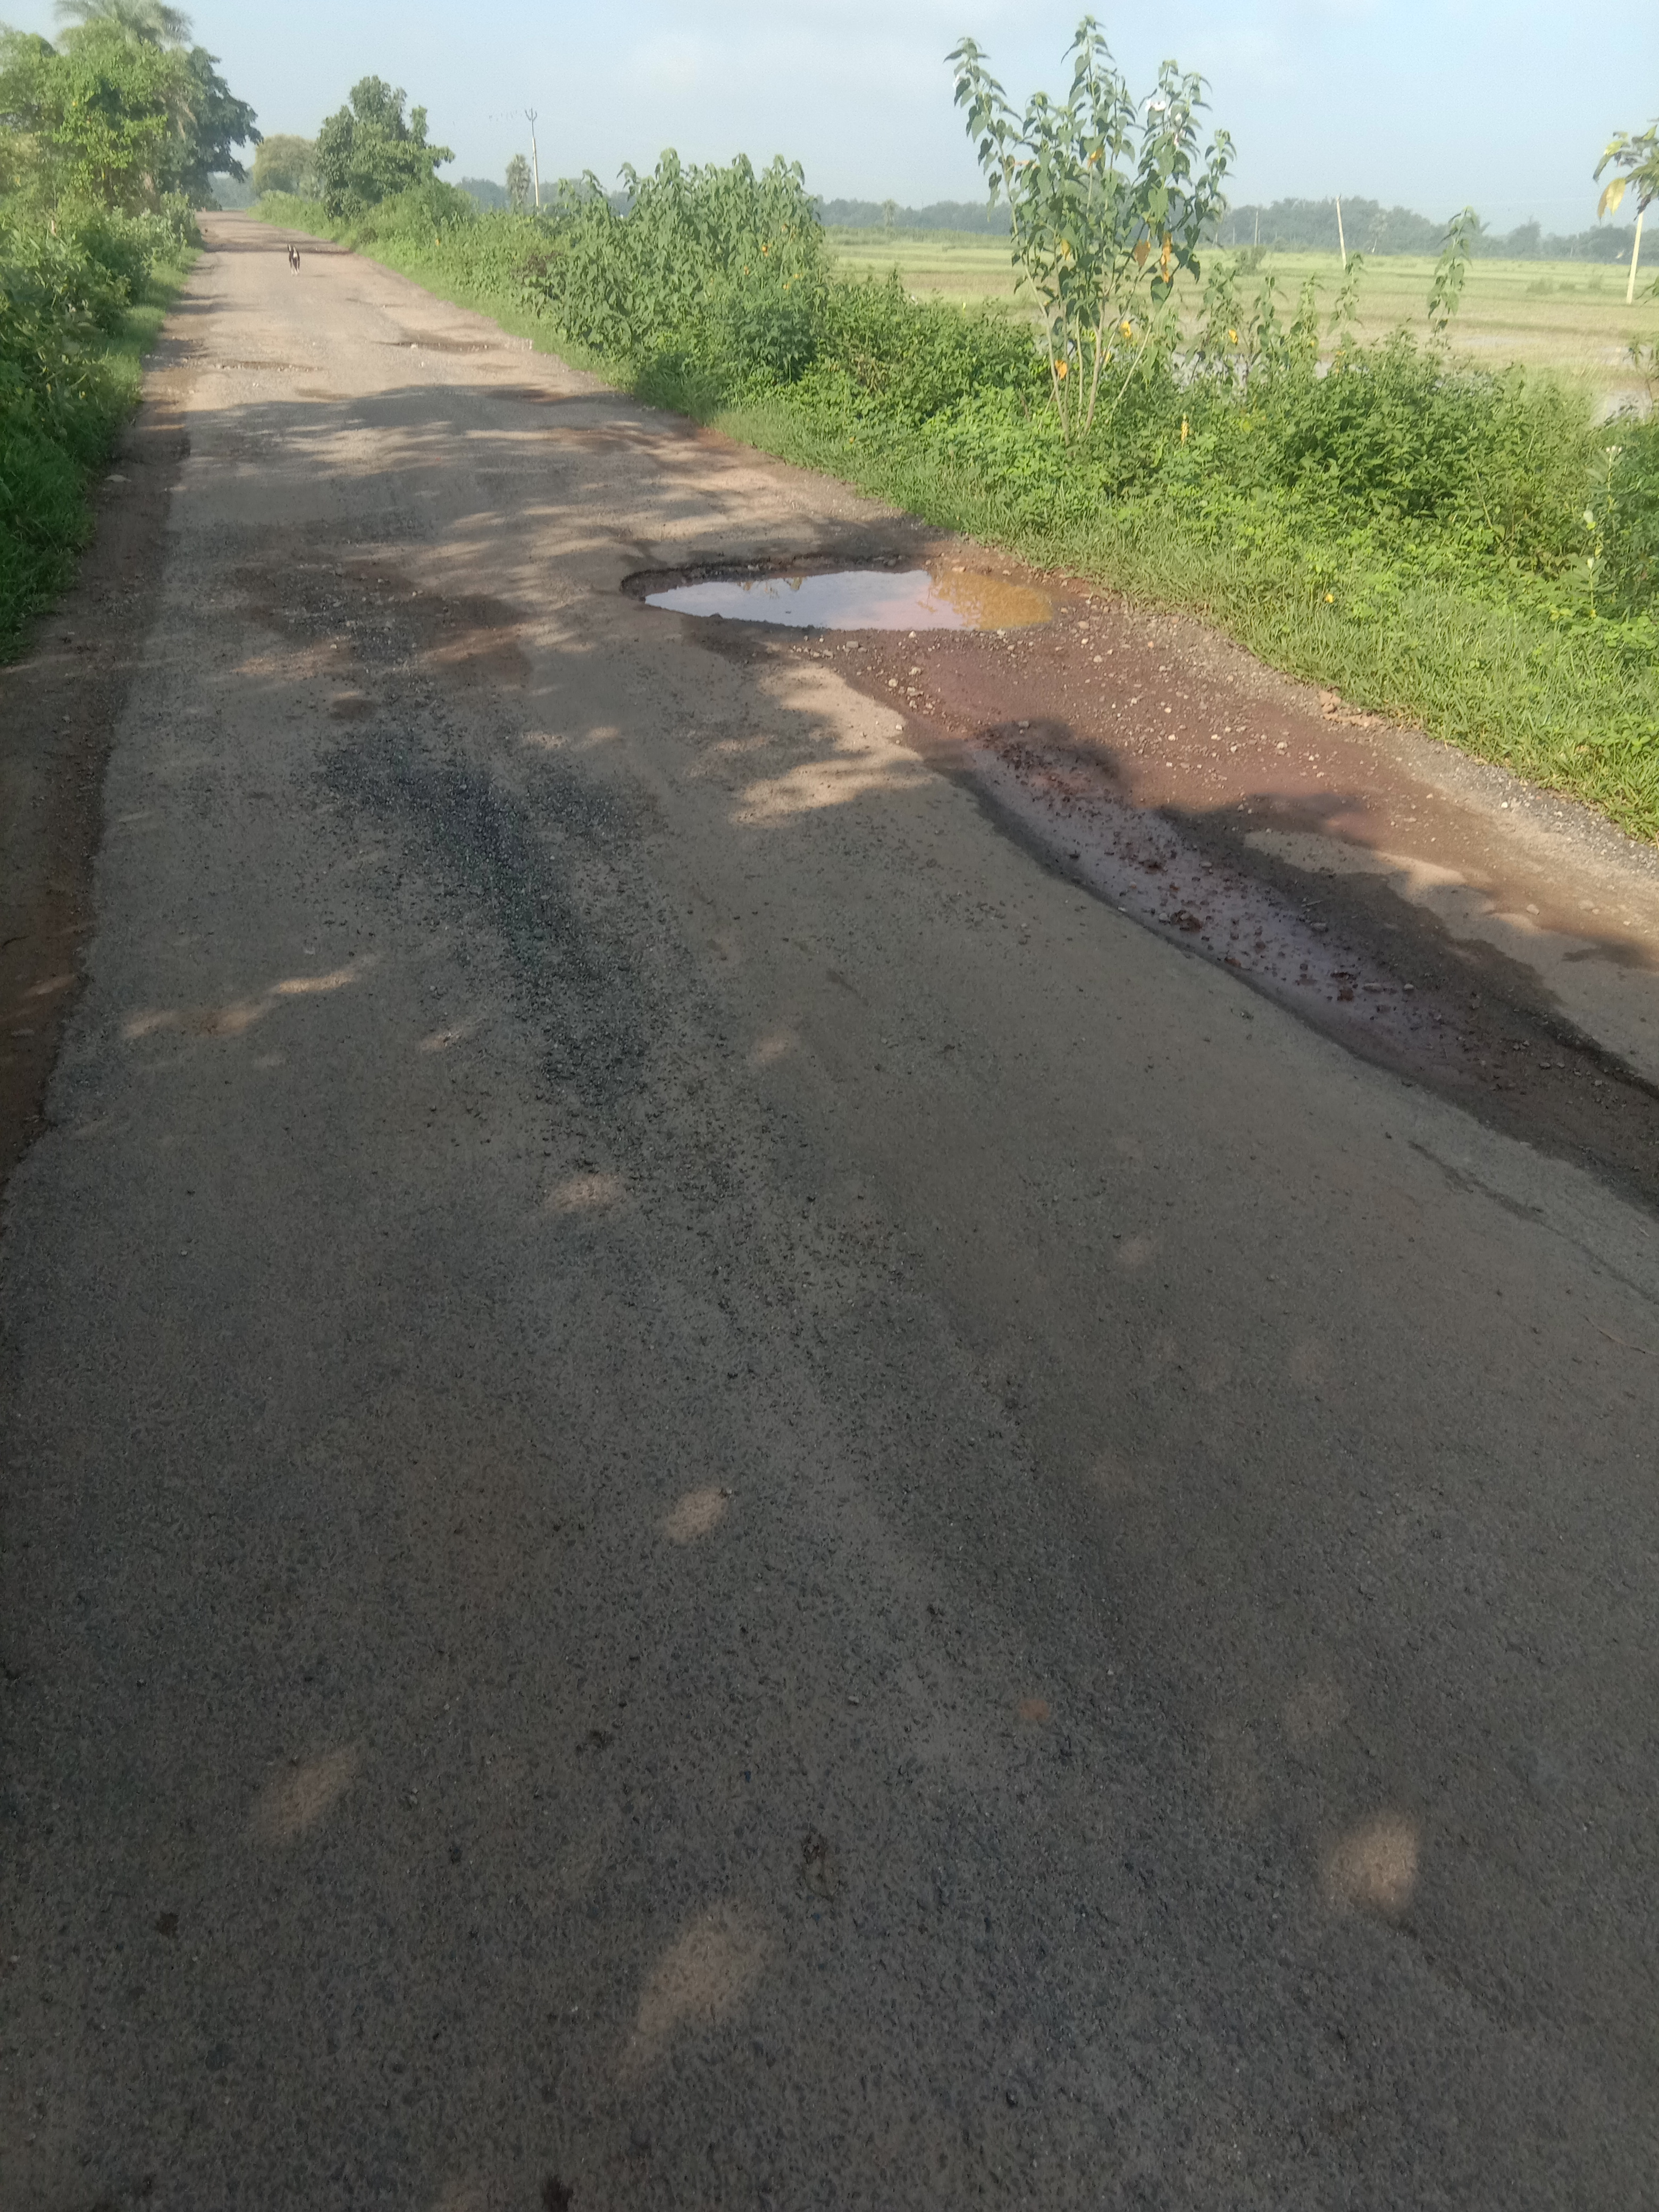potholes: (615, 533, 1079, 650)
